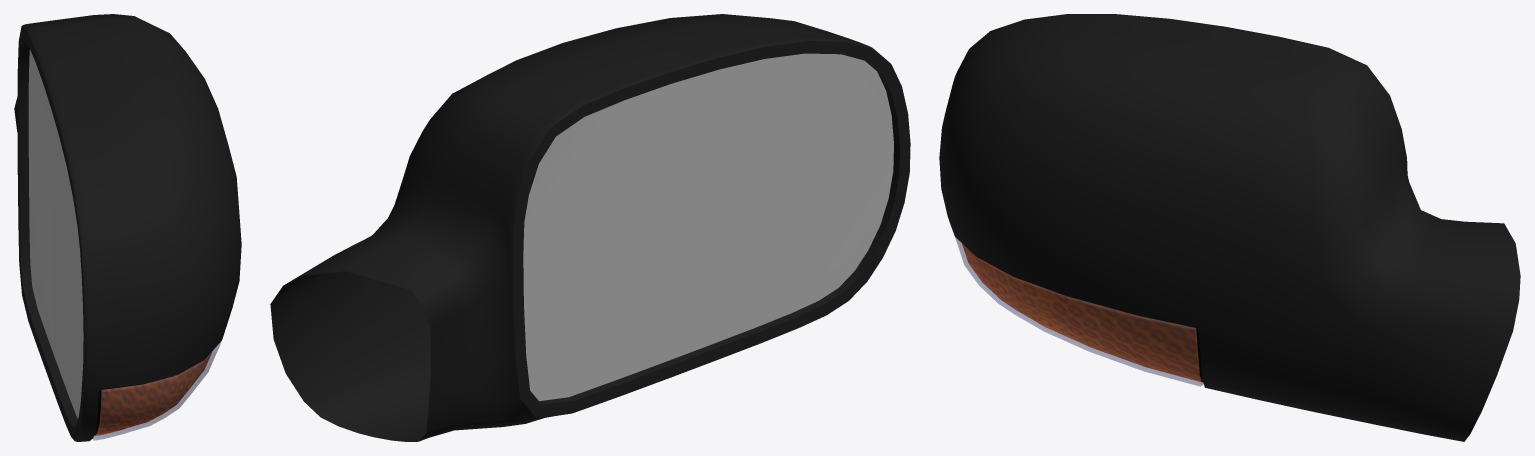
3 views of the same model, side by side, from view 1: azimuth 30°, elevation 25°; view 2: azimuth 150°, elevation 25°; view 3: azimuth 270°, elevation 25° (orthographic). The views are drawn at different scales.
Parts seen in each view (by area): view 1: U721_281I_R_U721_281I_R_3_D, U721_281I_R_U721_281I_R_4_DTaSI, U721_281I_R_U721_281I_R_2_DTaSI, U721_281I_R_1_N_U721_281I_R; view 2: U721_281I_R_U721_281I_R_3_D, U721_281I_R_U721_281I_R_4_DTaSI; view 3: U721_281I_R_U721_281I_R_3_D, U721_281I_R_U721_281I_R_2_DTaSI, U721_281I_R_1_N_U721_281I_R.
Boxes of the visible parts, x1,y1,x2,y2 form: U721_281I_R_U721_281I_R_3_D: (14,14,241,441); U721_281I_R_U721_281I_R_4_DTaSI: (28,50,83,418); U721_281I_R_U721_281I_R_2_DTaSI: (93,341,221,440); U721_281I_R_1_N_U721_281I_R: (94,351,212,435); U721_281I_R_U721_281I_R_3_D: (270,14,910,441); U721_281I_R_U721_281I_R_4_DTaSI: (523,53,893,401); U721_281I_R_U721_281I_R_3_D: (939,14,1520,441); U721_281I_R_U721_281I_R_2_DTaSI: (949,222,1203,386); U721_281I_R_1_N_U721_281I_R: (962,243,1201,382).
Bounding box in the file's own units: 25.46 × 22.04 × 36.64.
